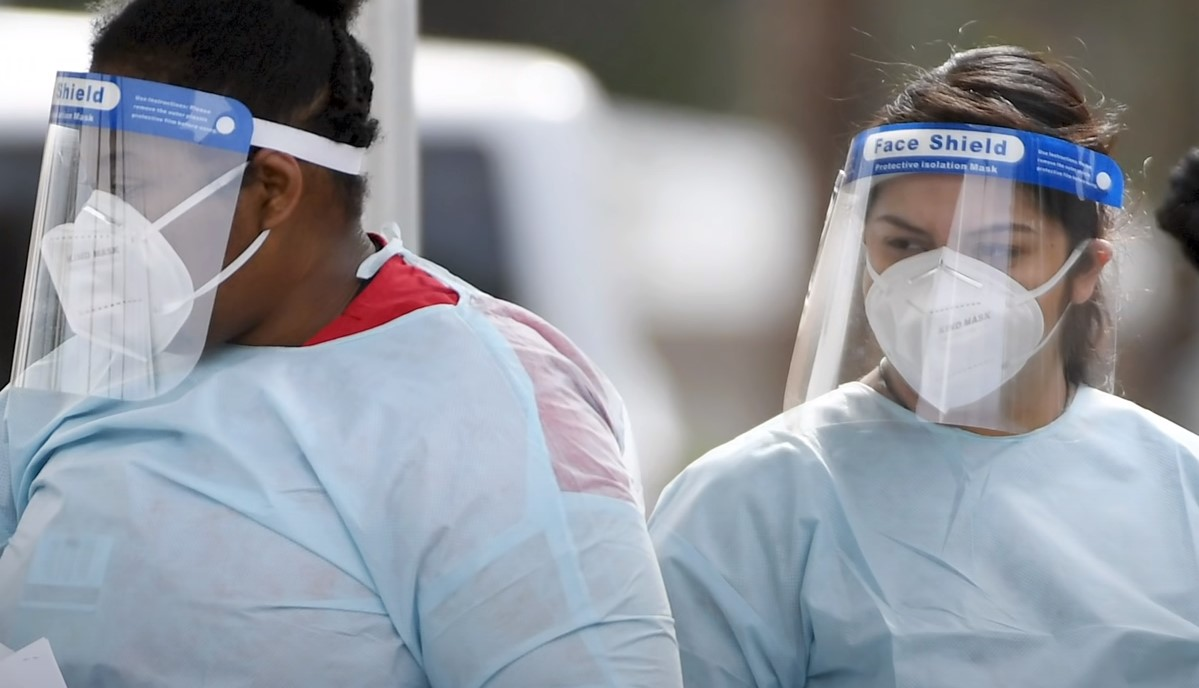face_with_mask: (21, 26, 344, 390), (827, 70, 1113, 408)
